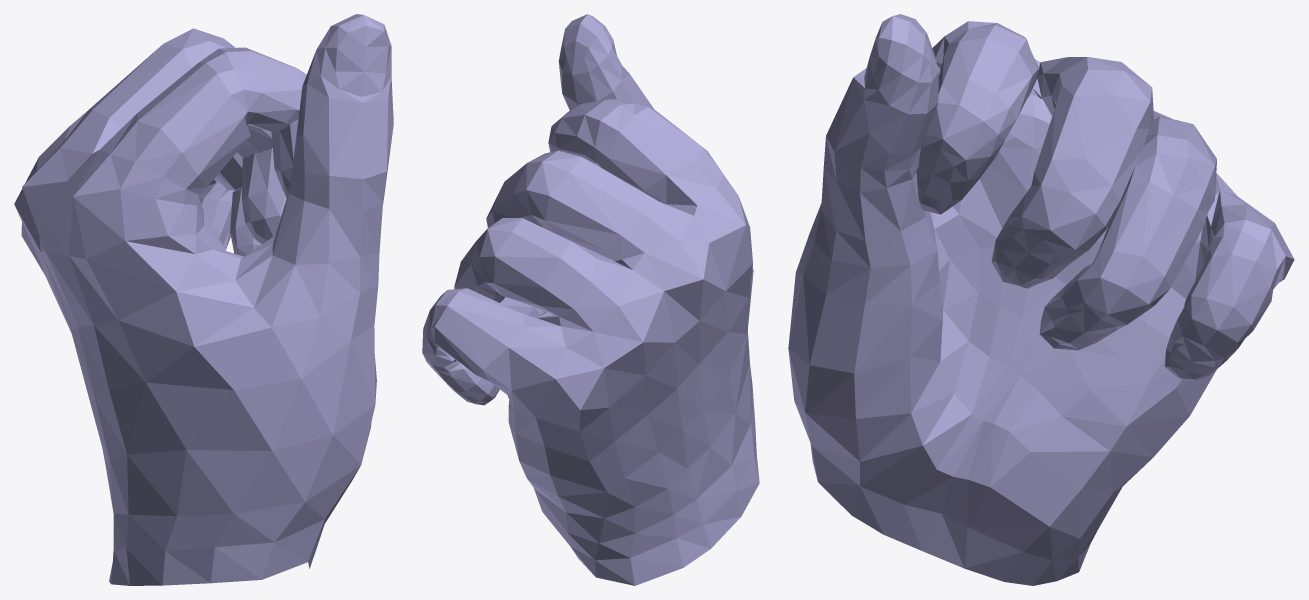
File: frame_0085_source_000085_hand.glb
3 renders of one model, left to right at view 1: azimuth 30°, elevation 25°; view 2: azimuth 150°, elevation 25°; view 3: azimuth 270°, elevation 25°, orthographic. The views are drawn at different scales.
Parts seen in each view (by area): view 1: world; view 2: world; view 3: world.
Part boxes in pixels (<box>): world: <box>14,14,393,585</box>; world: <box>422,14,759,585</box>; world: <box>788,14,1294,585</box>.
Size of the model in its own units: 0.0634 by 0.1252 by 0.0947.
